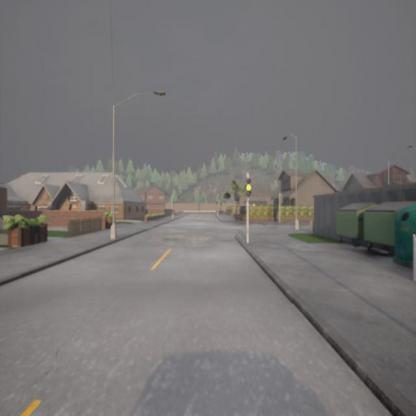traffic_light_orange: (246, 178, 252, 198)
